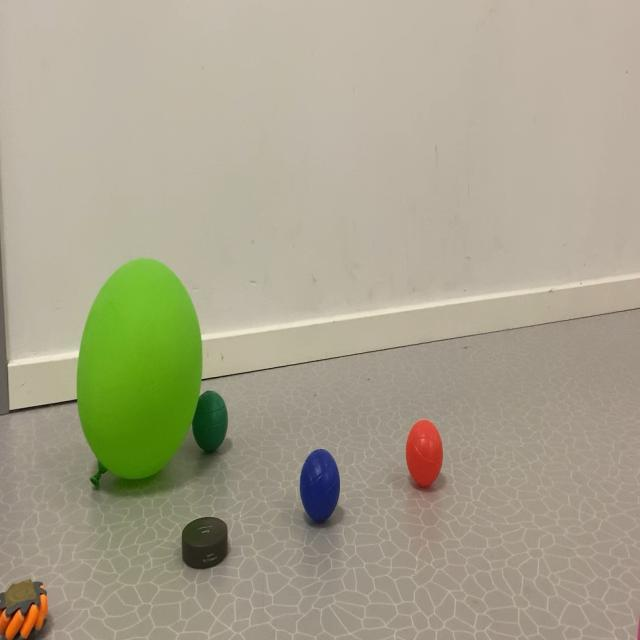blue ball: (298, 451, 338, 522)
green ball: (203, 396, 225, 452)
red ball: (408, 422, 442, 490)
